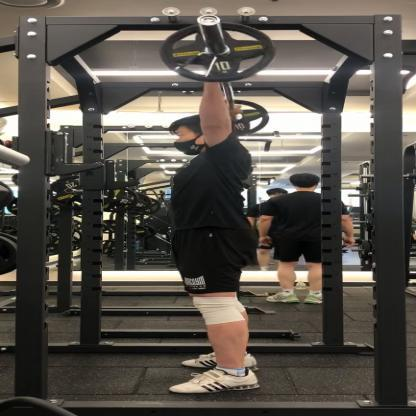Barbell: (194, 15, 225, 28)
